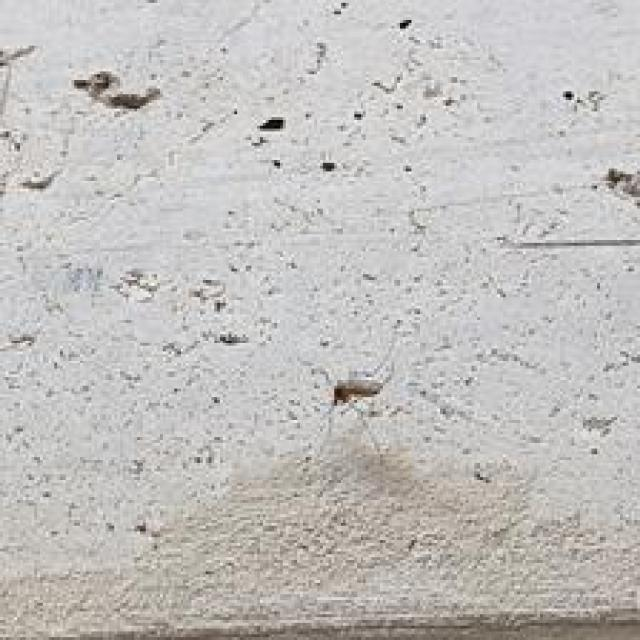Culex: (330, 319, 404, 407)
